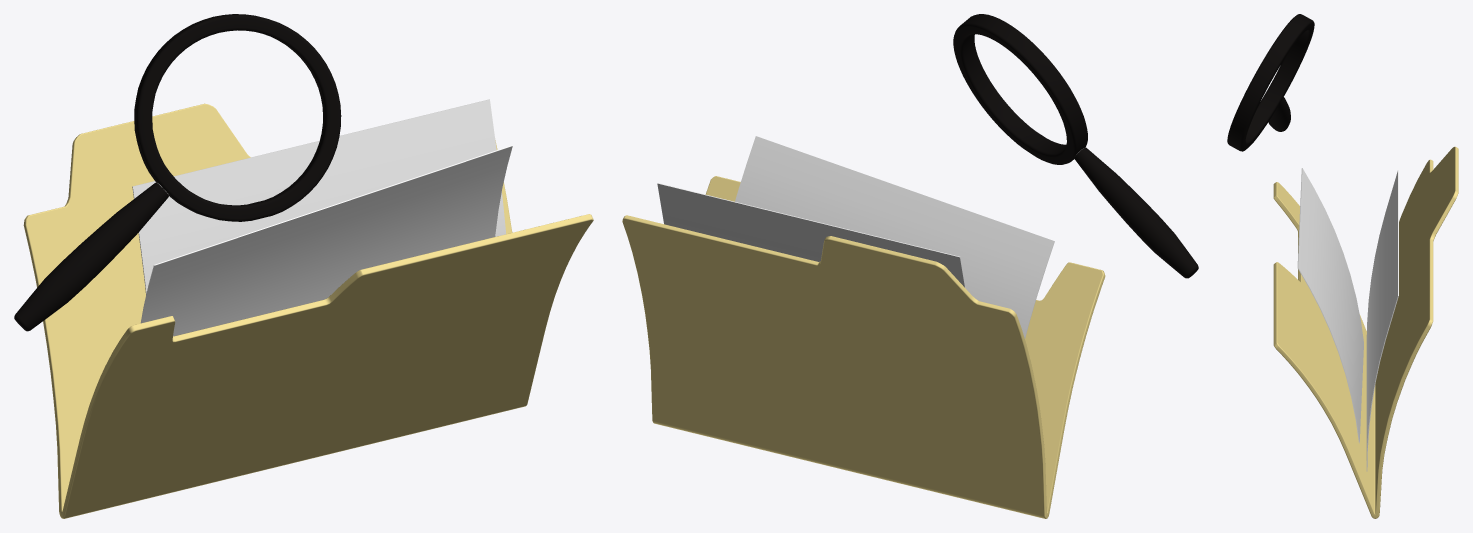
3 renders of one model, left to right at view 1: azimuth 30°, elevation 25°; view 2: azimuth 150°, elevation 25°; view 3: azimuth 270°, elevation 25°, orthographic. The views are drawn at different scales.
Parts seen in each view (by area): view 1: Folder, Magnifying_Glass (1); view 2: Folder, Magnifying_Glass (1); view 3: Folder, Magnifying_Glass (1).
Part boxes in pixels (<box>): Folder: <box>23,99,593,518</box>; Magnifying_Glass (1): <box>14,14,341,331</box>; Folder: <box>622,136,1105,518</box>; Magnifying_Glass (1): <box>953,14,1198,278</box>; Folder: <box>1273,146,1458,518</box>; Magnifying_Glass (1): <box>1227,14,1314,151</box>.
Size of the model in its own units: 14.19 by 12.23 by 6.85.
1 material, 1 textured.
